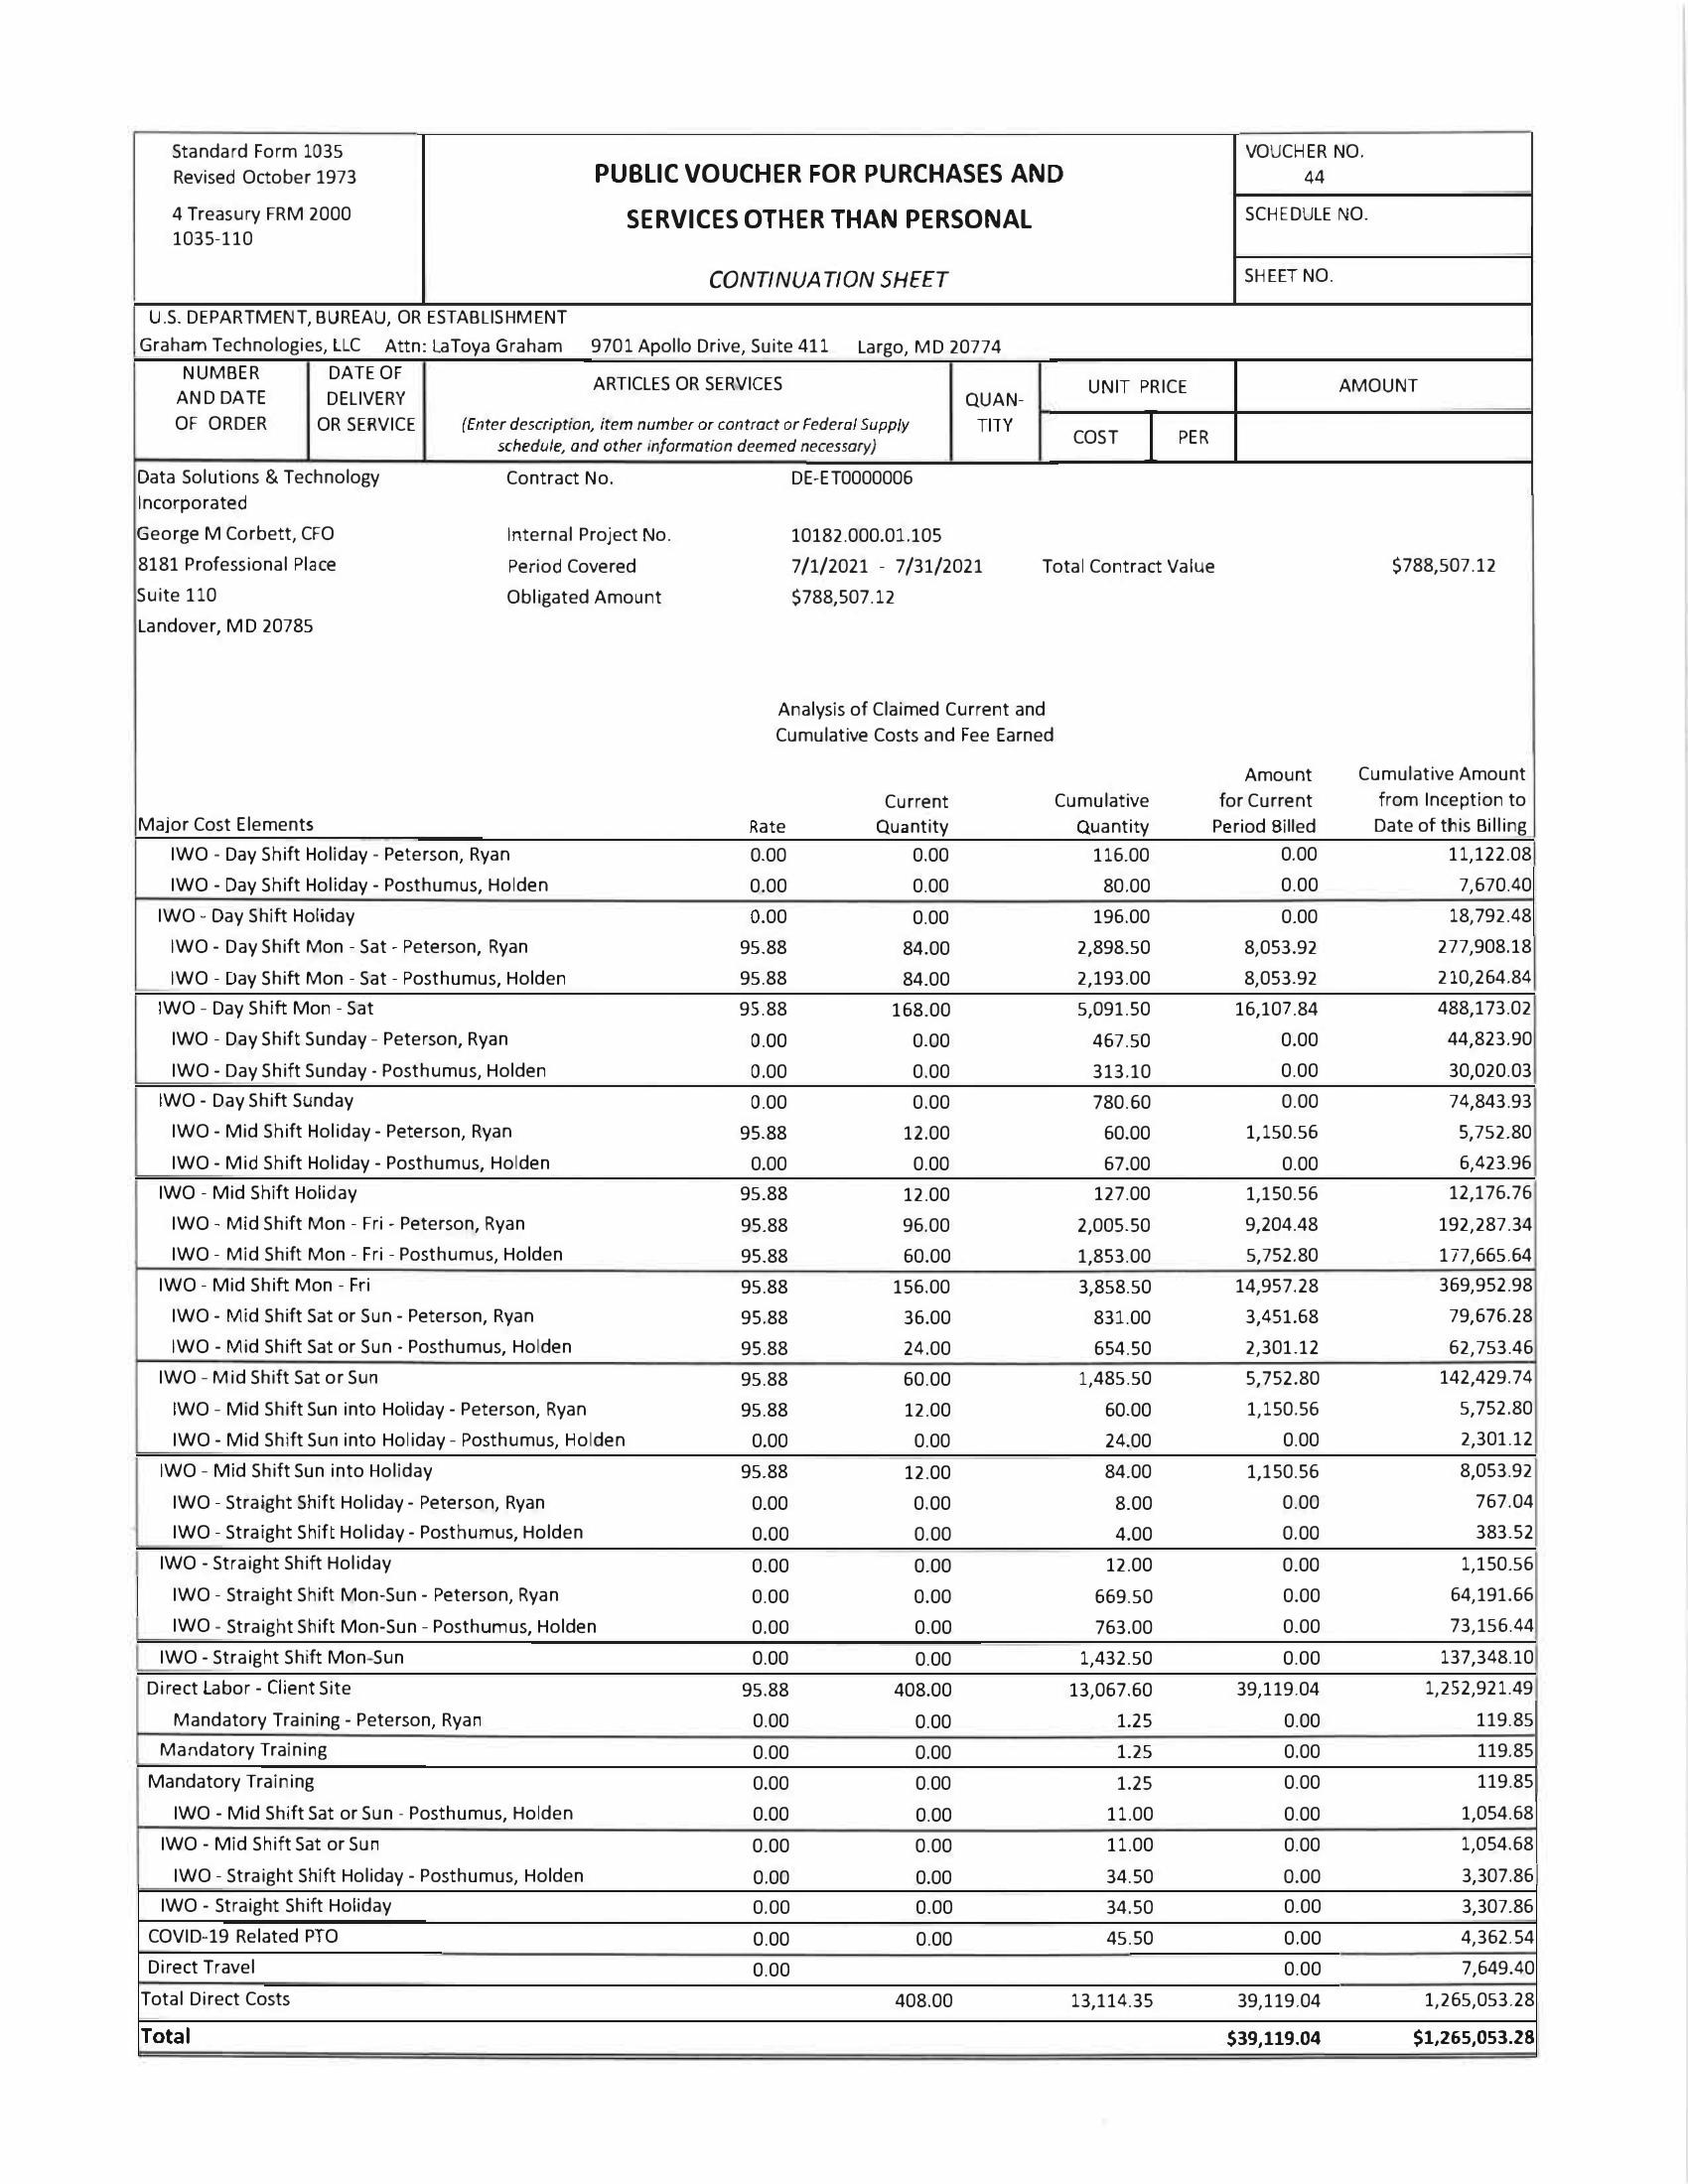table: (128, 757, 1539, 2062)
